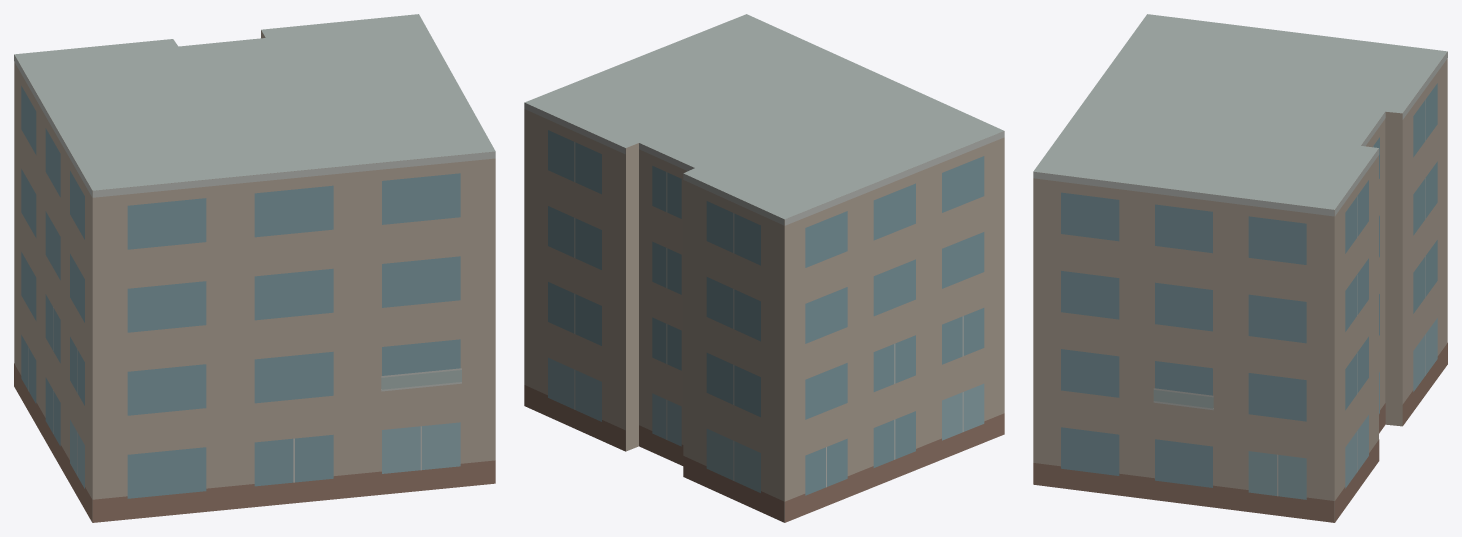
File: survey-upis-32872513.glb
The picture shows the model from 3 angles, left to right: view 1: azimuth 30°, elevation 25°; view 2: azimuth 150°, elevation 25°; view 3: azimuth 270°, elevation 25°; orthographic projection. The views are drawn at different scales.
Parts seen in each view (by area): view 1: survey-upis-32872513.tmp; view 2: survey-upis-32872513.tmp; view 3: survey-upis-32872513.tmp.
Boxes of the visible parts, x1,y1,x2,y2 form: survey-upis-32872513.tmp: [14, 14, 495, 522]; survey-upis-32872513.tmp: [524, 14, 1004, 522]; survey-upis-32872513.tmp: [1033, 14, 1447, 522].
Bounding box in the file's own units: 15.45 × 11.5 × 13.82.
